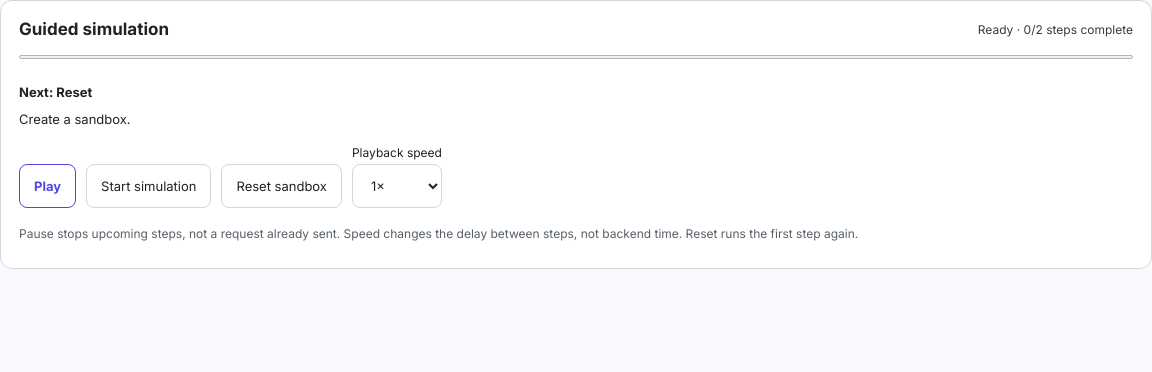
Simulation playback › presents accessible controls, descriptions, and safe error recovery
Check: the progress indicator named "Simulation progress" holds "0", box 19,53 -> 1133,61
Check: the text "Create a sandbox." is shown, box 19,111 -> 131,127
Click the button "Start simulation" at (149, 186), box 86,164 -> 212,208
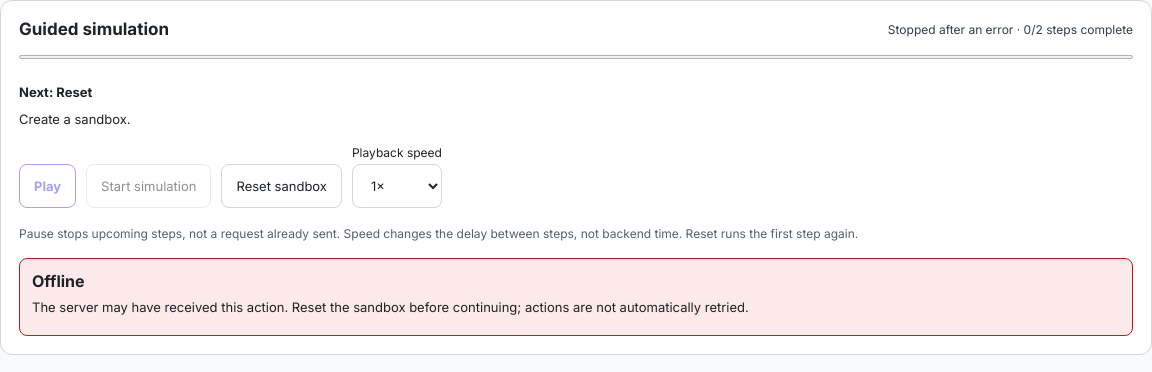
Check: the button "Reset sandbox" is enabled, box 222,164 -> 342,208
Check: the message that starts with "Offline" is shown, box 32,271 -> 85,291
Check: the button "Play" is disabled, box 19,164 -> 76,208
